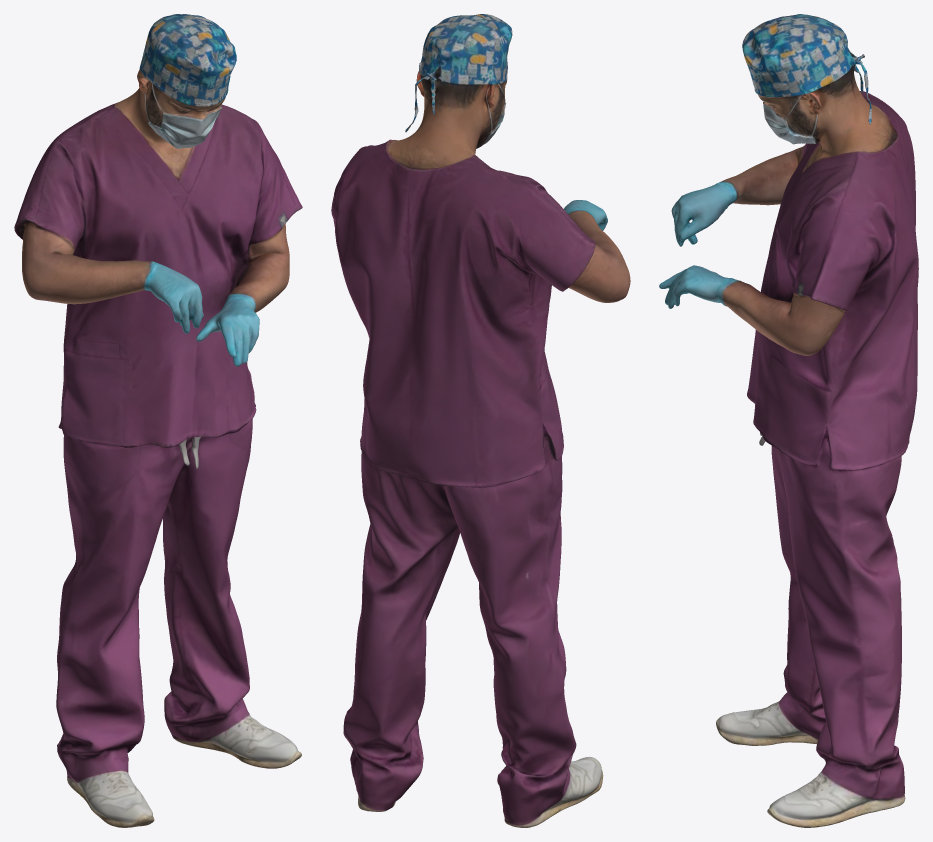
File: surgeon.glb
3 views of the same model, side by side, from view 1: azimuth 30°, elevation 25°; view 2: azimuth 150°, elevation 25°; view 3: azimuth 270°, elevation 25° (orthographic).
Parts seen in each view (by area): view 1: Object_2; view 2: Object_2; view 3: Object_2.
Part boxes in pixels (box(x1,y1,x2,y2)): Object_2: box(14, 14, 302, 827); Object_2: box(331, 14, 630, 827); Object_2: box(659, 14, 918, 827).
Size of the model in its own units: 70.33 by 182 by 56.49.
Materials: 1 (1 with a texture image).
